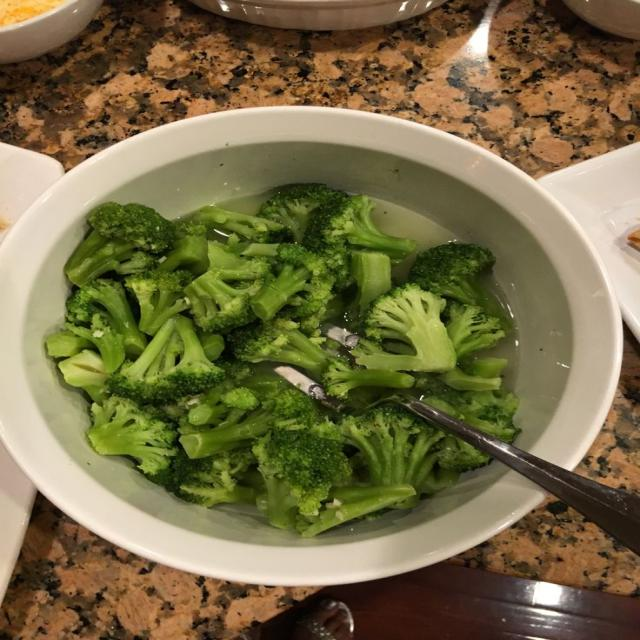broccoli: (107, 315, 224, 404), (254, 421, 350, 529), (340, 404, 444, 502), (180, 389, 319, 458), (408, 243, 512, 330), (65, 203, 174, 286), (357, 284, 456, 371), (186, 242, 269, 331), (303, 196, 416, 259), (87, 397, 176, 475), (417, 377, 519, 442), (251, 244, 333, 320), (296, 485, 415, 537), (67, 279, 146, 357), (152, 448, 256, 507), (229, 318, 329, 379), (258, 184, 347, 242), (180, 408, 273, 459), (185, 271, 261, 332), (126, 270, 193, 335), (322, 358, 413, 399), (191, 205, 290, 242), (66, 312, 125, 373), (447, 303, 505, 360), (187, 381, 259, 426), (350, 250, 392, 313), (58, 350, 107, 402), (208, 241, 269, 281), (158, 235, 208, 275), (440, 367, 501, 391), (46, 330, 93, 358), (114, 251, 159, 275), (198, 331, 225, 361)
